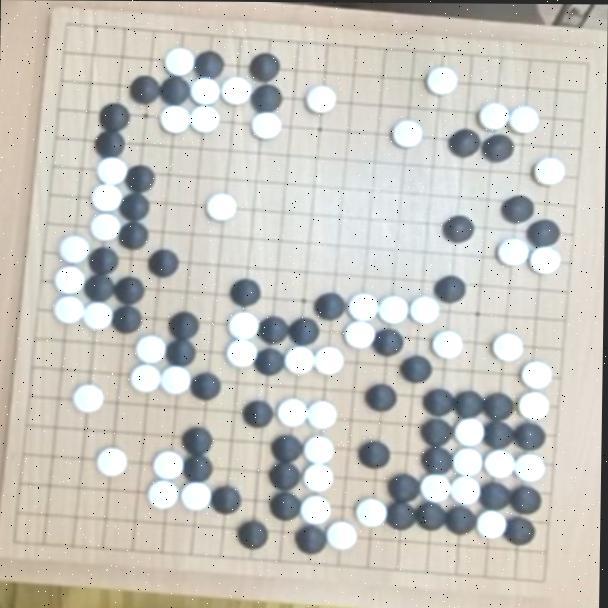corners: (560, 49, 607, 93), (49, 11, 94, 52), (0, 517, 43, 559), (521, 555, 559, 602)
